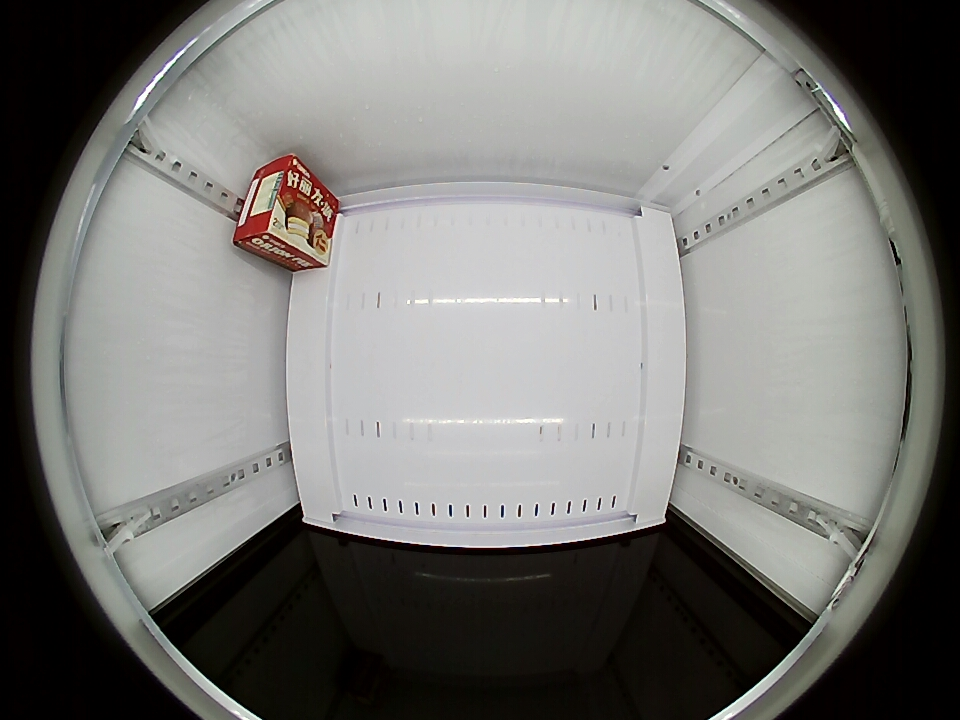haoliyou: (232, 154, 316, 256)
